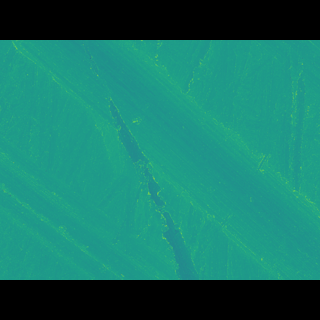Loch: (5, 69, 320, 250), (0, 141, 178, 250), (105, 103, 202, 251)
